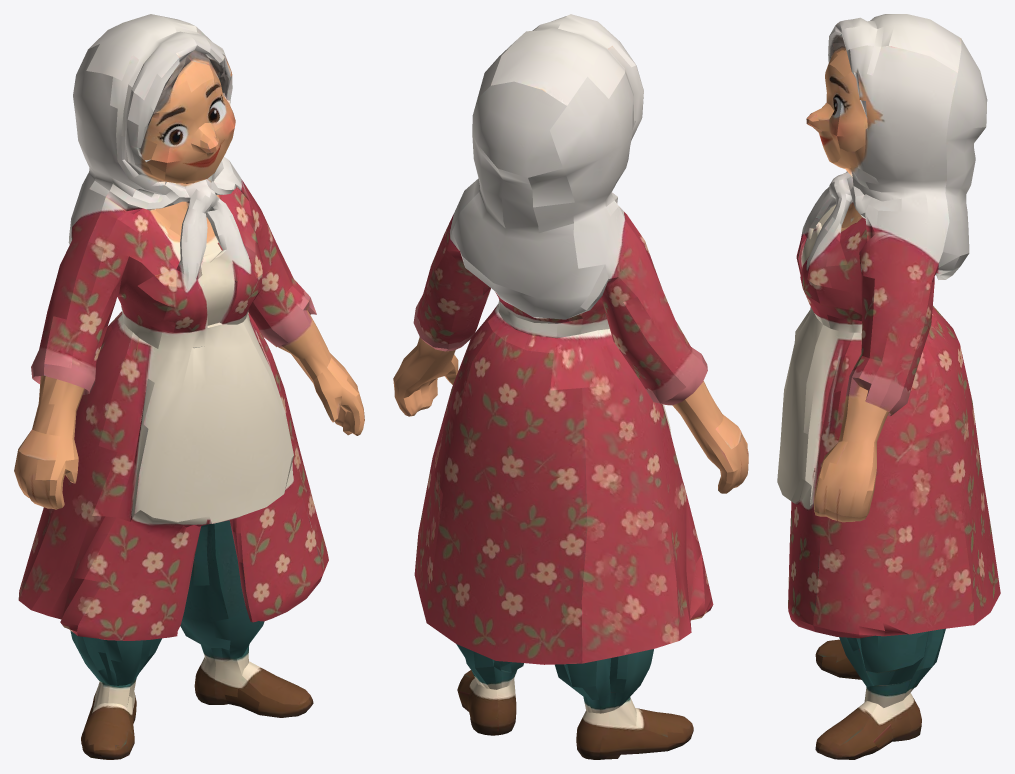
File: keloglan-anasi.glb
3 views of the same model, side by side, from view 1: azimuth 30°, elevation 25°; view 2: azimuth 150°, elevation 25°; view 3: azimuth 270°, elevation 25° (orthographic). The views are drawn at different scales.
Parts seen in each view (by area): view 1: Mesh0; view 2: Mesh0; view 3: Mesh0.
Part boxes in pixels (x1,y1,x2,y2): Mesh0: [14, 14, 364, 759]; Mesh0: [393, 14, 748, 759]; Mesh0: [777, 14, 1000, 759].
Size of the model in its own units: 0.9672 by 1.9 by 0.5624.
1 material, 1 textured.
